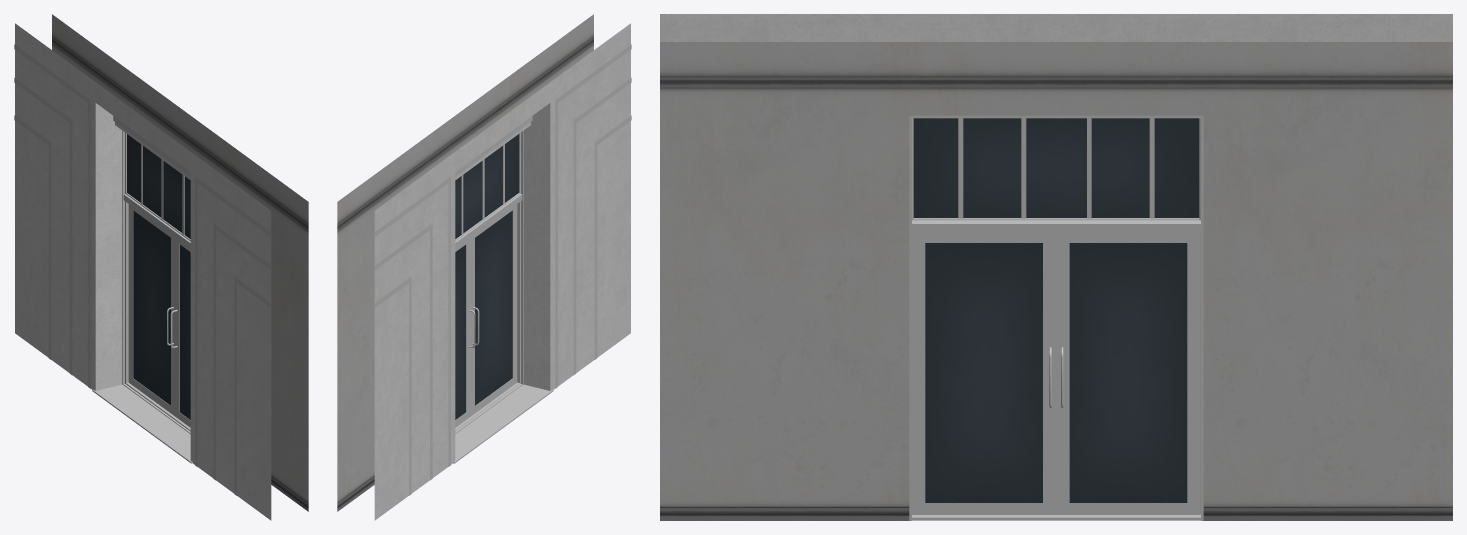
Rendered from MB_Entrance_A_05.fbx.
3 views of the same model, side by side, from view 1: azimuth 30°, elevation 25°; view 2: azimuth 150°, elevation 25°; view 3: azimuth 270°, elevation 25° (orthographic). The views are drawn at different scales.
Parts seen in each view (by area): view 1: MB_Entrance_A_05, MB_Door_Glass_07_LOD0, MB_Door_Glass_06_LOD0; view 2: MB_Entrance_A_05, MB_Door_Glass_06_LOD0, MB_Door_Glass_07_LOD0; view 3: MB_Entrance_A_05, MB_Door_Glass_06_LOD0, MB_Door_Glass_07_LOD0.
Boxes of the visible parts, <box> form: MB_Entrance_A_05: <box>14,14,308,520</box>; MB_Door_Glass_07_LOD0: <box>128,204,175,416</box>; MB_Door_Glass_06_LOD0: <box>170,238,190,427</box>; MB_Entrance_A_05: <box>337,14,631,520</box>; MB_Door_Glass_06_LOD0: <box>470,204,517,416</box>; MB_Door_Glass_07_LOD0: <box>455,238,475,427</box>; MB_Entrance_A_05: <box>660,14,1452,520</box>; MB_Door_Glass_06_LOD0: <box>912,233,1056,514</box>; MB_Door_Glass_07_LOD0: <box>1056,233,1200,514</box>.
Size of what is drawn, in the model's own units: 56.31 by 400 by 600.
